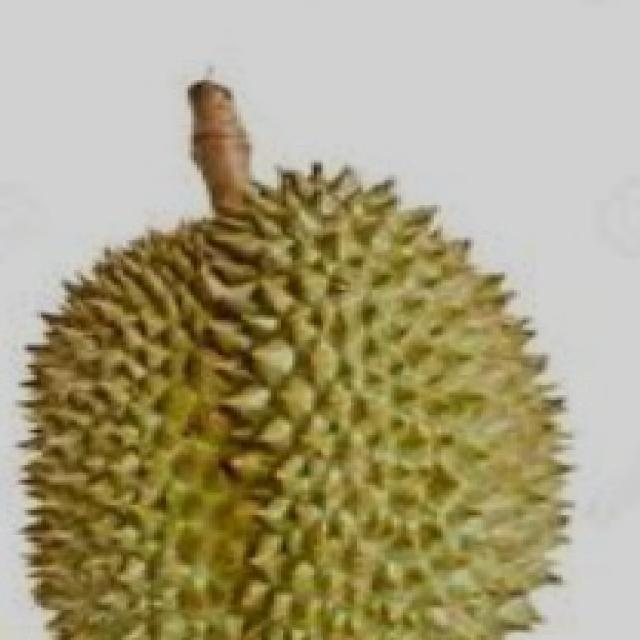fruit: (258, 247, 633, 640), (0, 230, 326, 640)
